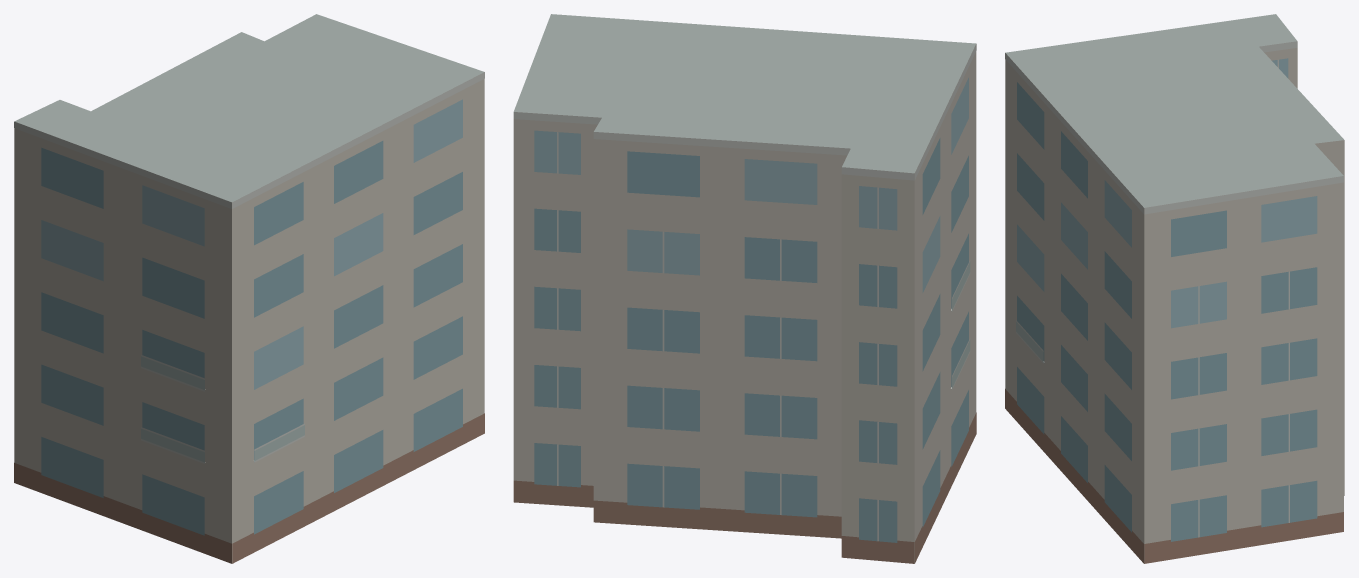
Rendered from survey-upis-32881893.glb.
3 renders of one model, left to right at view 1: azimuth 30°, elevation 25°; view 2: azimuth 150°, elevation 25°; view 3: azimuth 270°, elevation 25°, orthographic. The views are drawn at different scales.
Visible parts, largest first — view 1: survey-upis-32881893.tmp; view 2: survey-upis-32881893.tmp; view 3: survey-upis-32881893.tmp.
Part boxes in pixels (<box>): survey-upis-32881893.tmp: <box>14,14,484,563</box>; survey-upis-32881893.tmp: <box>513,14,976,563</box>; survey-upis-32881893.tmp: <box>1005,14,1344,563</box>.
Bounding box in the file's own units: 15.44 × 13.2 × 11.42.
